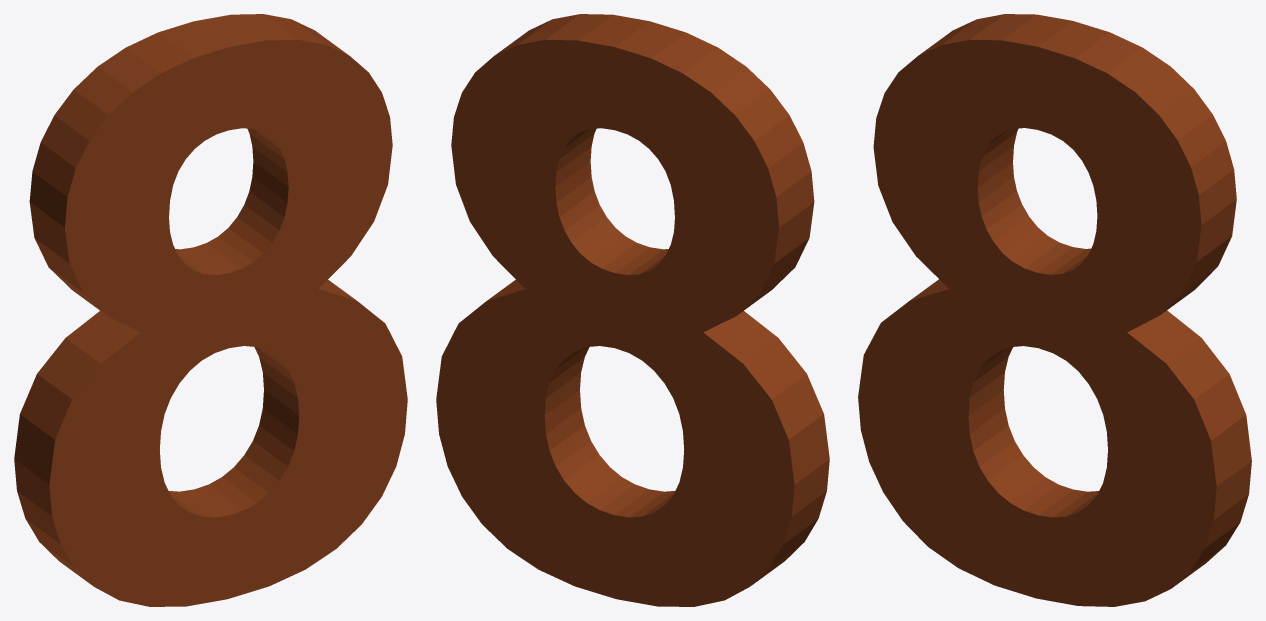
File: num_8.glb
3 renders of one model, left to right at view 1: azimuth 30°, elevation 25°; view 2: azimuth 150°, elevation 25°; view 3: azimuth 330°, elevation 25°, orthographic.
Visible parts, largest first — view 1: num_8; view 2: num_8; view 3: num_8.
Boxes of the visible parts, box(x1,y1,x2,y2) form: num_8: box(14, 14, 407, 606); num_8: box(436, 14, 829, 606); num_8: box(858, 14, 1251, 606).
Bounding box in the file's own units: 1.17 × 1.73 × 0.2.
